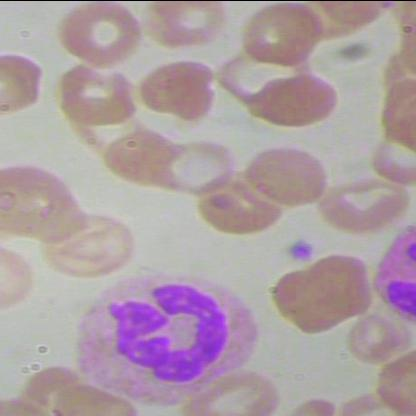Platelets: (284, 236, 316, 264)
RBC: (266, 253, 376, 336), (37, 210, 140, 286), (52, 0, 148, 72), (316, 174, 412, 244), (194, 166, 287, 234), (53, 62, 141, 130), (179, 361, 285, 415), (243, 1, 329, 67), (136, 56, 220, 118), (255, 70, 339, 130), (247, 144, 326, 206), (145, 1, 235, 53), (347, 308, 411, 361), (1, 49, 47, 117)
WBC: (66, 265, 261, 415)
